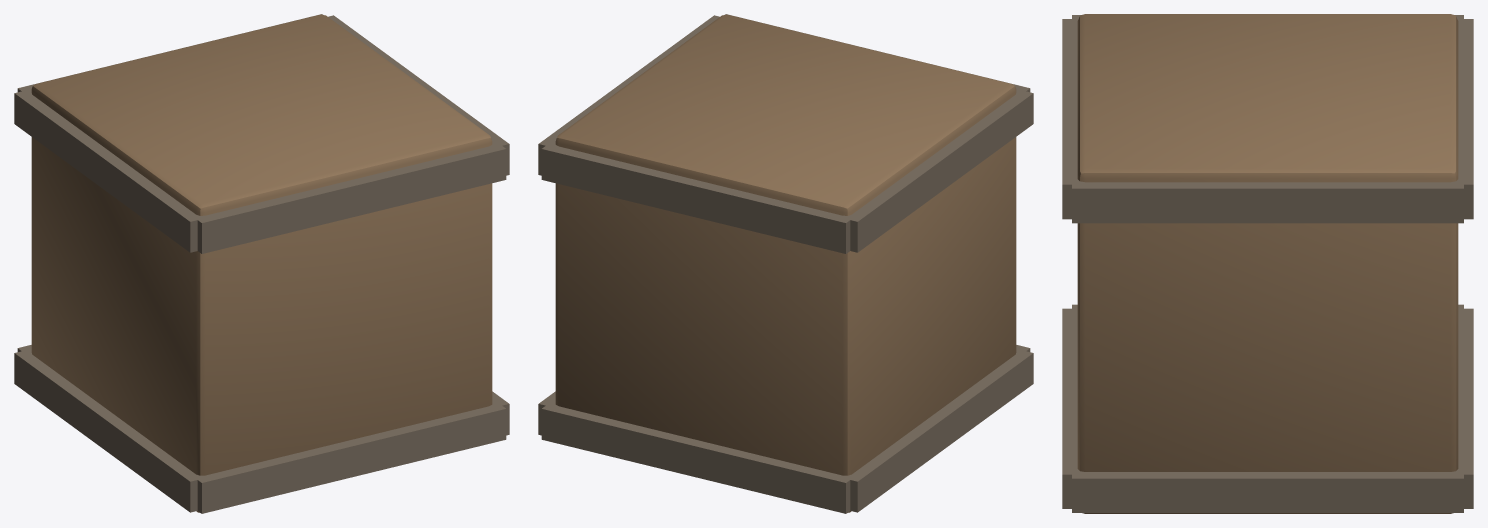
File: ZR_Crate.fbx
The picture shows the model from 3 angles, left to right: view 1: azimuth 30°, elevation 25°; view 2: azimuth 150°, elevation 25°; view 3: azimuth 270°, elevation 25°; orthographic projection. The views are drawn at different scales.
Visible parts, largest first — view 1: ZR_Crate; view 2: ZR_Crate; view 3: ZR_Crate.
Part boxes in pixels (x1,y1,x2,y2): ZR_Crate: [14, 14, 509, 513]; ZR_Crate: [538, 14, 1033, 513]; ZR_Crate: [1062, 14, 1473, 513].
Size of the model in its own units: 1.08 by 1 by 1.08.
